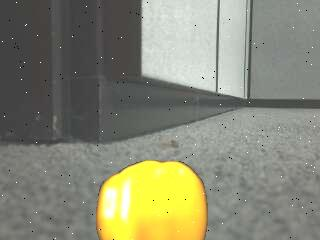Capsicum: (97, 160, 208, 240)
